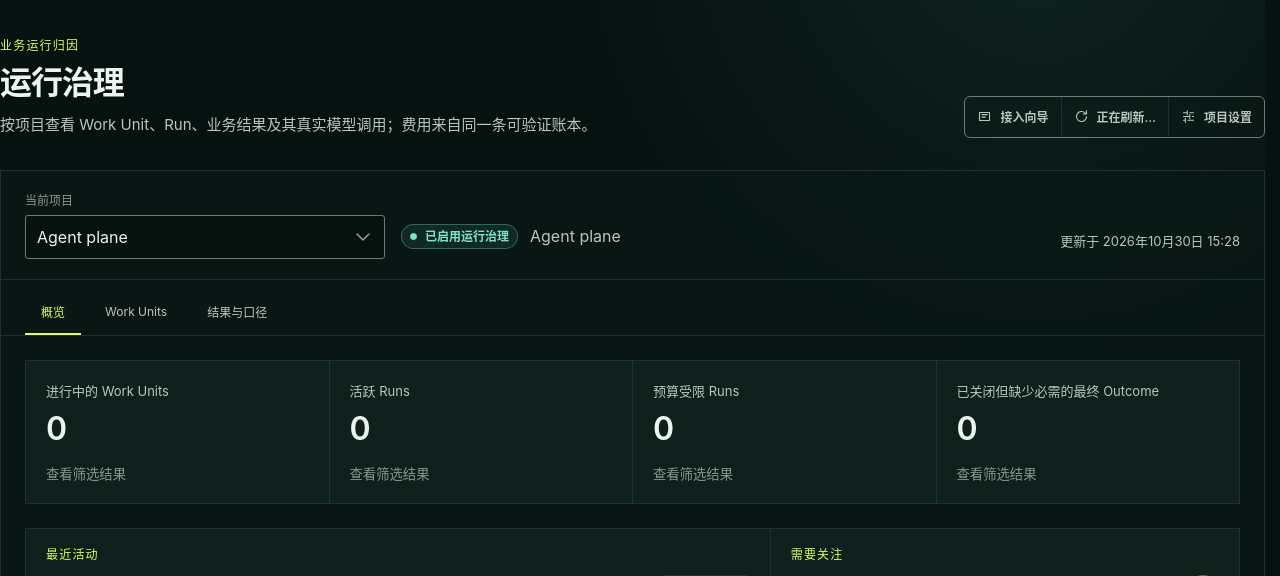
RunGovernancePage › retires the automatic guide after the first complete lifecycle and keeps it available on demand
This screenshot has width=1280, height=576.
expect the element named "当前治理概况" is shown: met, box [25,360,1240,504]
Click the button "接入向导".
click(1013, 117)  # box [966,97,1060,137]
(page scrolled)
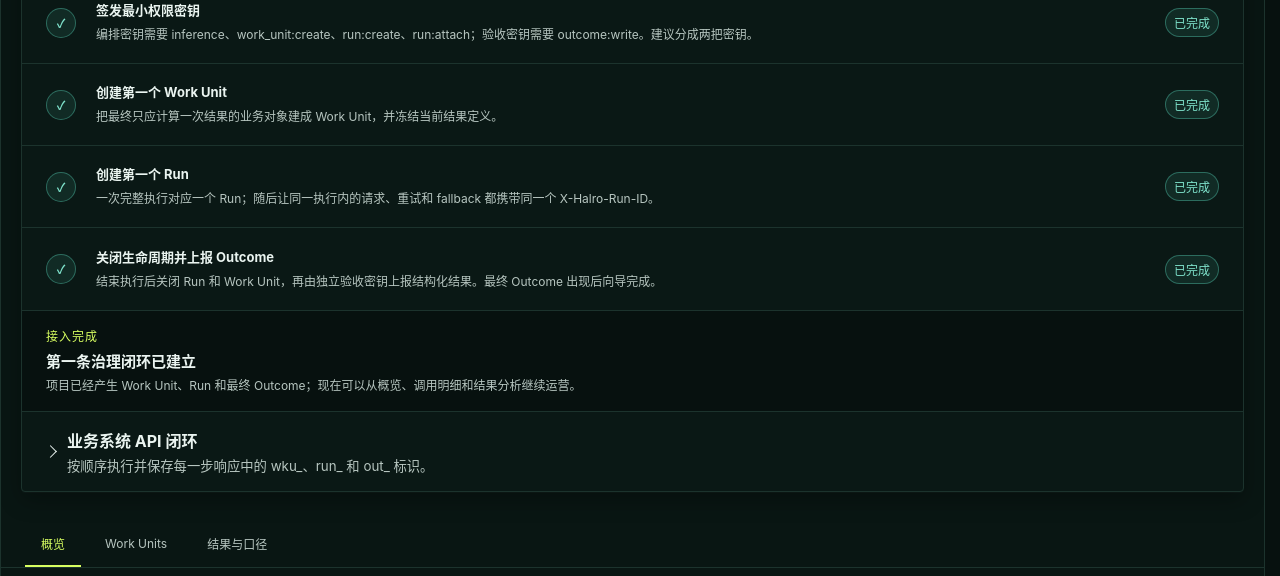
expect the text "第一条治理闭环已建立" is shown: met, box [46,352,196,371]
